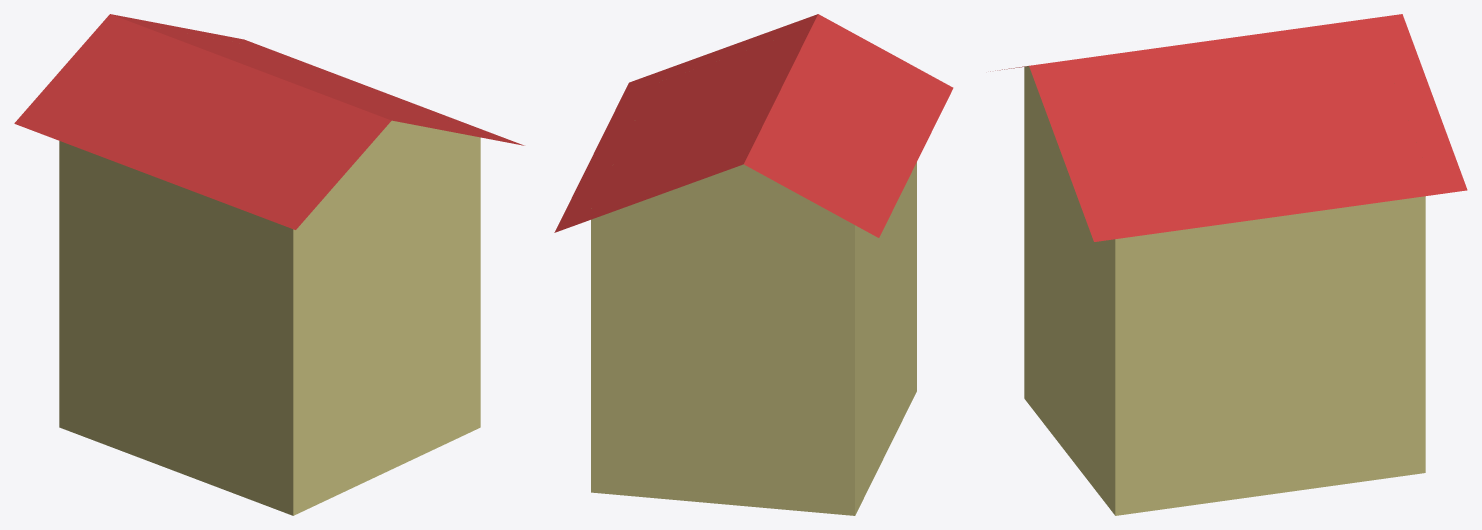
3 renders of one model, left to right at view 1: azimuth 30°, elevation 25°; view 2: azimuth 150°, elevation 25°; view 3: azimuth 270°, elevation 25°, orthographic. The views are drawn at different scales.
Bounding box in the file's own units: 6.94 × 7.27 × 6.34.
